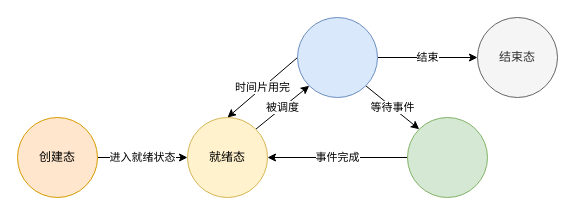
Image size: 575x215. Some labels were removed from this diagram. Here are the shapes that lost their labels. From the top down, the centre of each, then its label:
the point at 337,57: 运行态
the point at 447,157: 阻塞态
